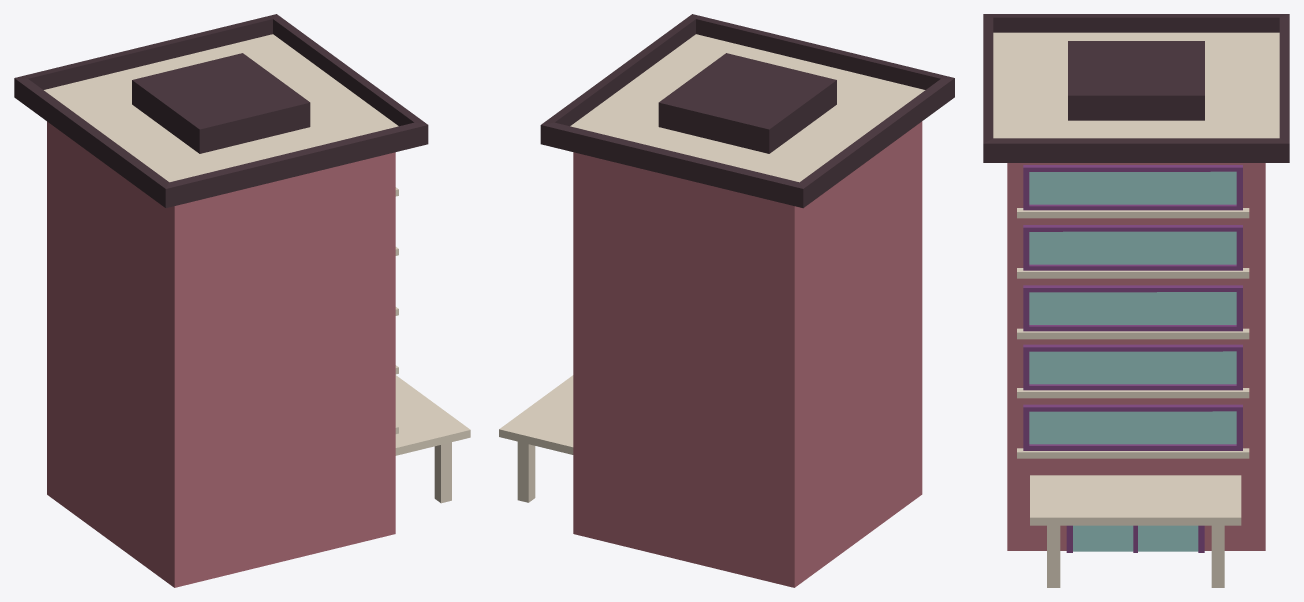
File: block_building.fbx
3 renders of one model, left to right at view 1: azimuth 30°, elevation 25°; view 2: azimuth 150°, elevation 25°; view 3: azimuth 270°, elevation 25°, orthographic.
Parts seen in each view (by area): view 1: block_building; view 2: block_building; view 3: block_building.
Boxes of the visible parts, x1,y1,x2,y2 form: block_building: (14,14,470,587); block_building: (499,14,954,587); block_building: (983,14,1289,587).
Size of the model in its own units: 12.03 by 14.82 by 9.62.
